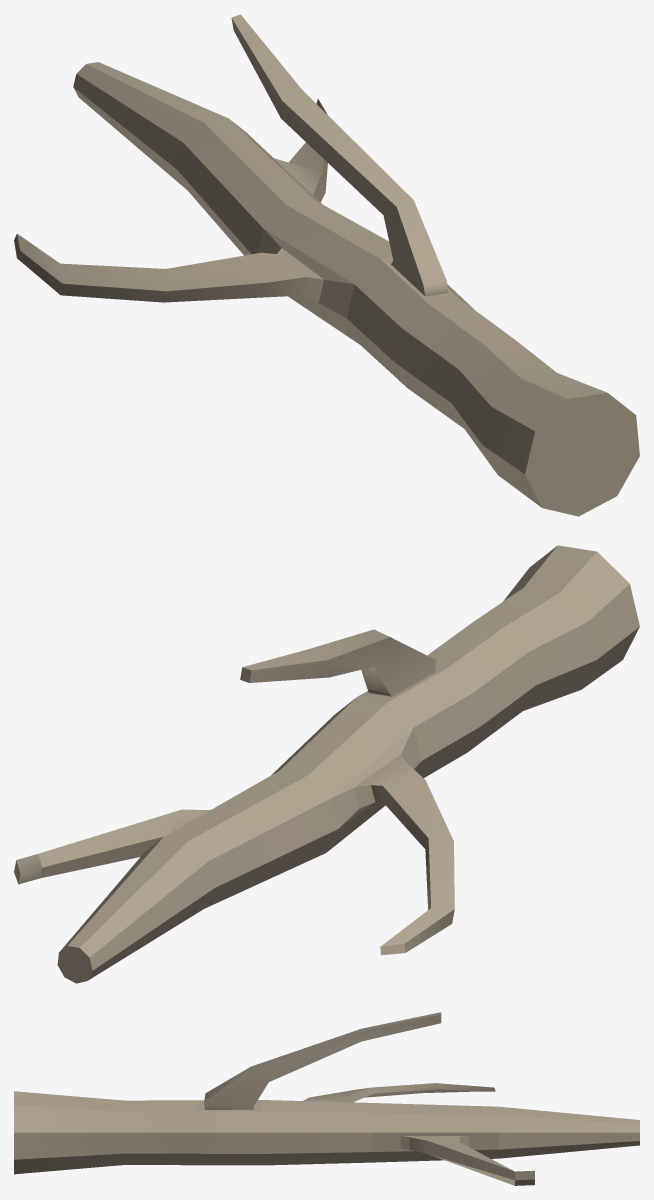
File: Tronco.fbx
3 renders of one model, top to bottom at view 1: azimuth 30°, elevation 25°; view 2: azimuth 150°, elevation 25°; view 3: azimuth 270°, elevation 25°, orthographic. The views are drawn at different scales.
Visible parts, largest first — view 1: Wood; view 2: Wood; view 3: Wood.
Part boxes in pixels (<box>): Wood: <box>14,14,639,516</box>; Wood: <box>14,545,639,983</box>; Wood: <box>14,1012,639,1185</box>.
Bounding box in the file's own units: 1.1 × 0.7497 × 2.72.
1 material, 1 textured.
